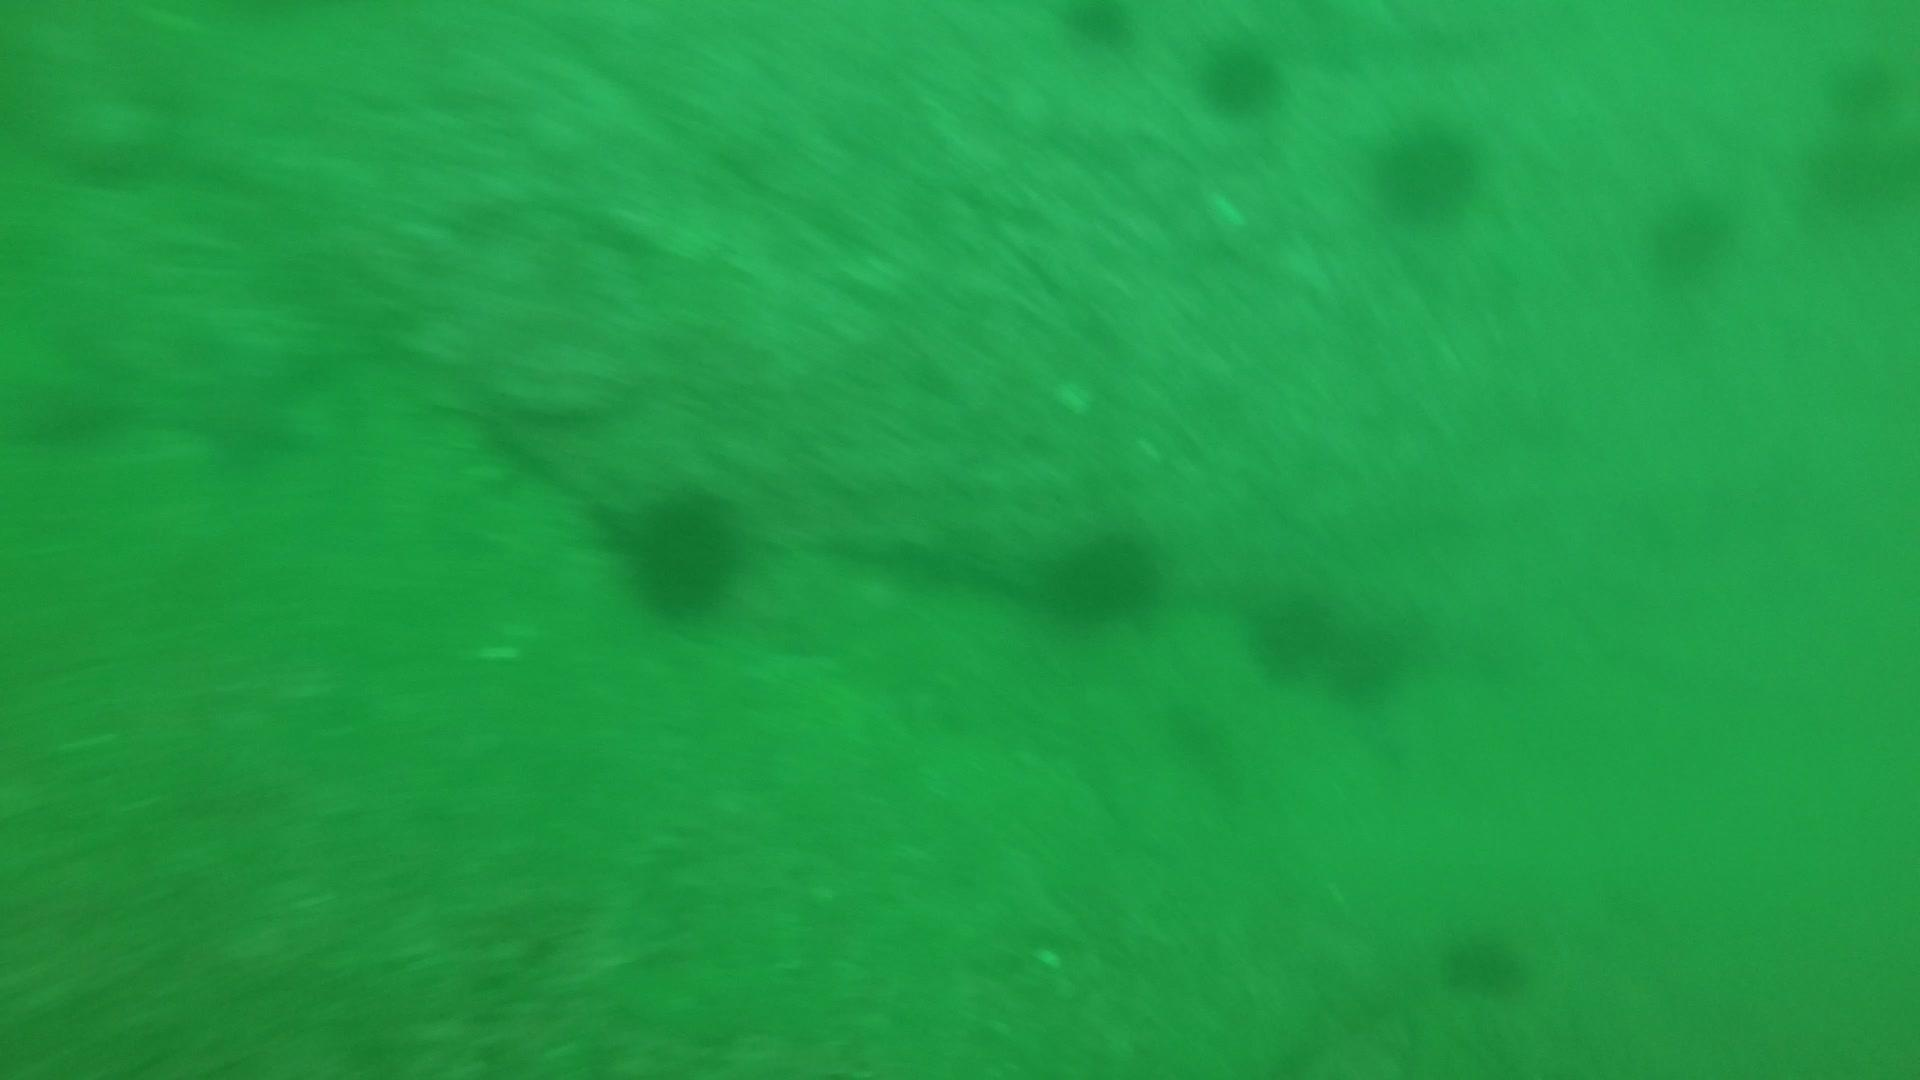echinus: (611, 481, 752, 624), (1033, 518, 1168, 630), (1364, 108, 1487, 225), (1639, 179, 1741, 284), (1807, 119, 1908, 223), (1242, 582, 1342, 682), (1317, 611, 1415, 709), (1192, 33, 1288, 121), (1435, 918, 1534, 1001), (1818, 44, 1908, 124), (1048, 1, 1143, 55)
